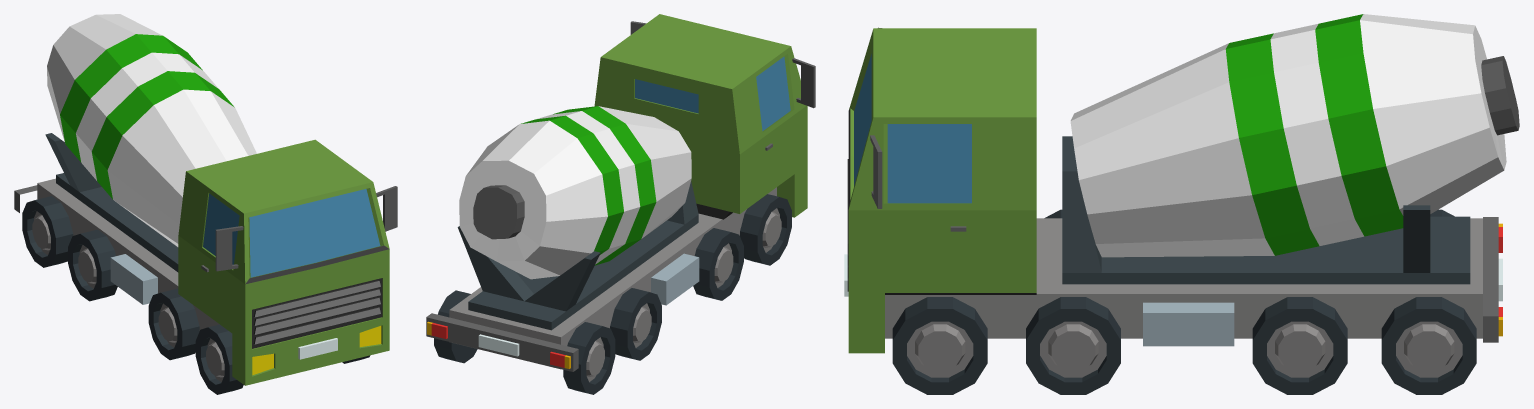
File: concrete_truck.glb
3 views of the same model, side by side, from view 1: azimuth 30°, elevation 25°; view 2: azimuth 150°, elevation 25°; view 3: azimuth 270°, elevation 25° (orthographic). The views are drawn at different scales.
Parts seen in each view (by area): view 1: Concrete_Truck_Green; view 2: Concrete_Truck_Green; view 3: Concrete_Truck_Green.
Part boxes in pixels (bbox=[...]): Concrete_Truck_Green: bbox=[14, 14, 397, 394]; Concrete_Truck_Green: bbox=[426, 14, 815, 394]; Concrete_Truck_Green: bbox=[844, 14, 1519, 394].
Bounding box in the file's own units: 3.14 × 3.82 × 7.2.
Materials: 1 (1 with a texture image).
